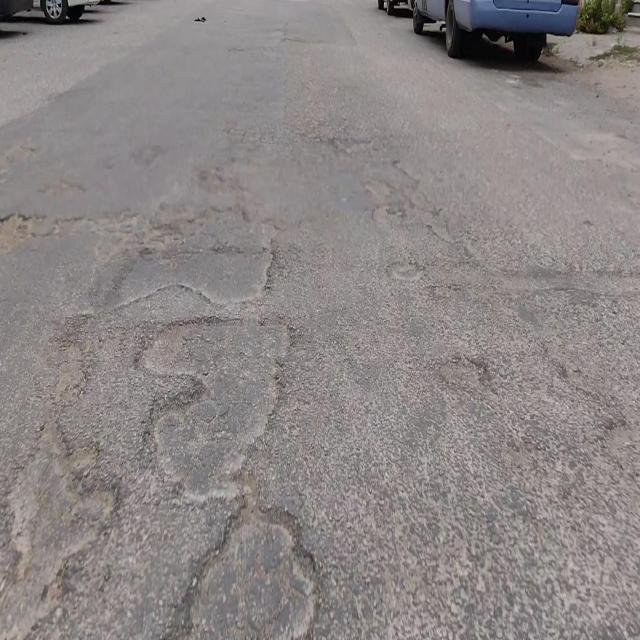Potholes: (133, 315, 290, 508), (1, 409, 126, 640), (184, 493, 320, 639), (118, 241, 277, 312)
